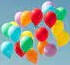Balloon: (1, 41, 14, 58), (20, 36, 33, 52), (44, 11, 56, 27), (31, 9, 43, 25), (8, 25, 20, 41), (43, 44, 57, 57), (20, 11, 31, 27), (36, 27, 48, 41), (53, 21, 64, 35)
